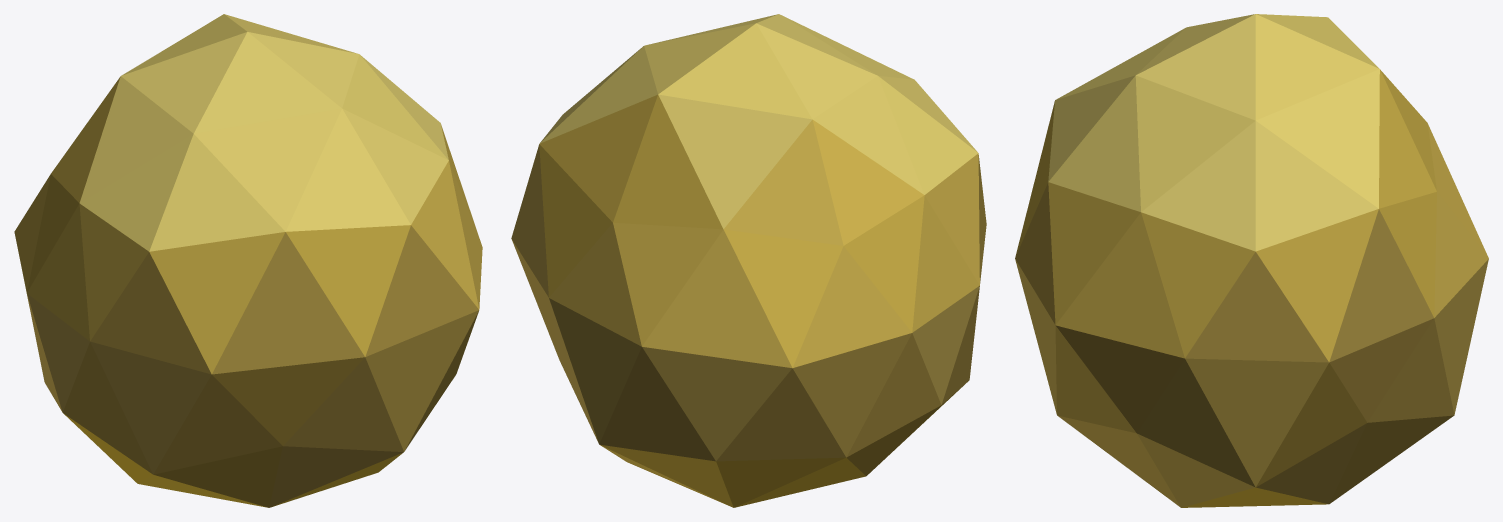
Rendered from Gold_Chunk.glb.
The picture shows the model from 3 angles, left to right: view 1: azimuth 30°, elevation 25°; view 2: azimuth 150°, elevation 25°; view 3: azimuth 270°, elevation 25°; orthographic projection. The views are drawn at different scales.
Visible parts, largest first — view 1: GoldChunk; view 2: GoldChunk; view 3: GoldChunk.
Boxes of the visible parts, bbox=[...] form: GoldChunk: bbox=[14, 14, 482, 507]; GoldChunk: bbox=[511, 14, 986, 507]; GoldChunk: bbox=[1015, 14, 1488, 507].
Bounding box in the file's own units: 0.3731 × 0.4024 × 0.3757.
